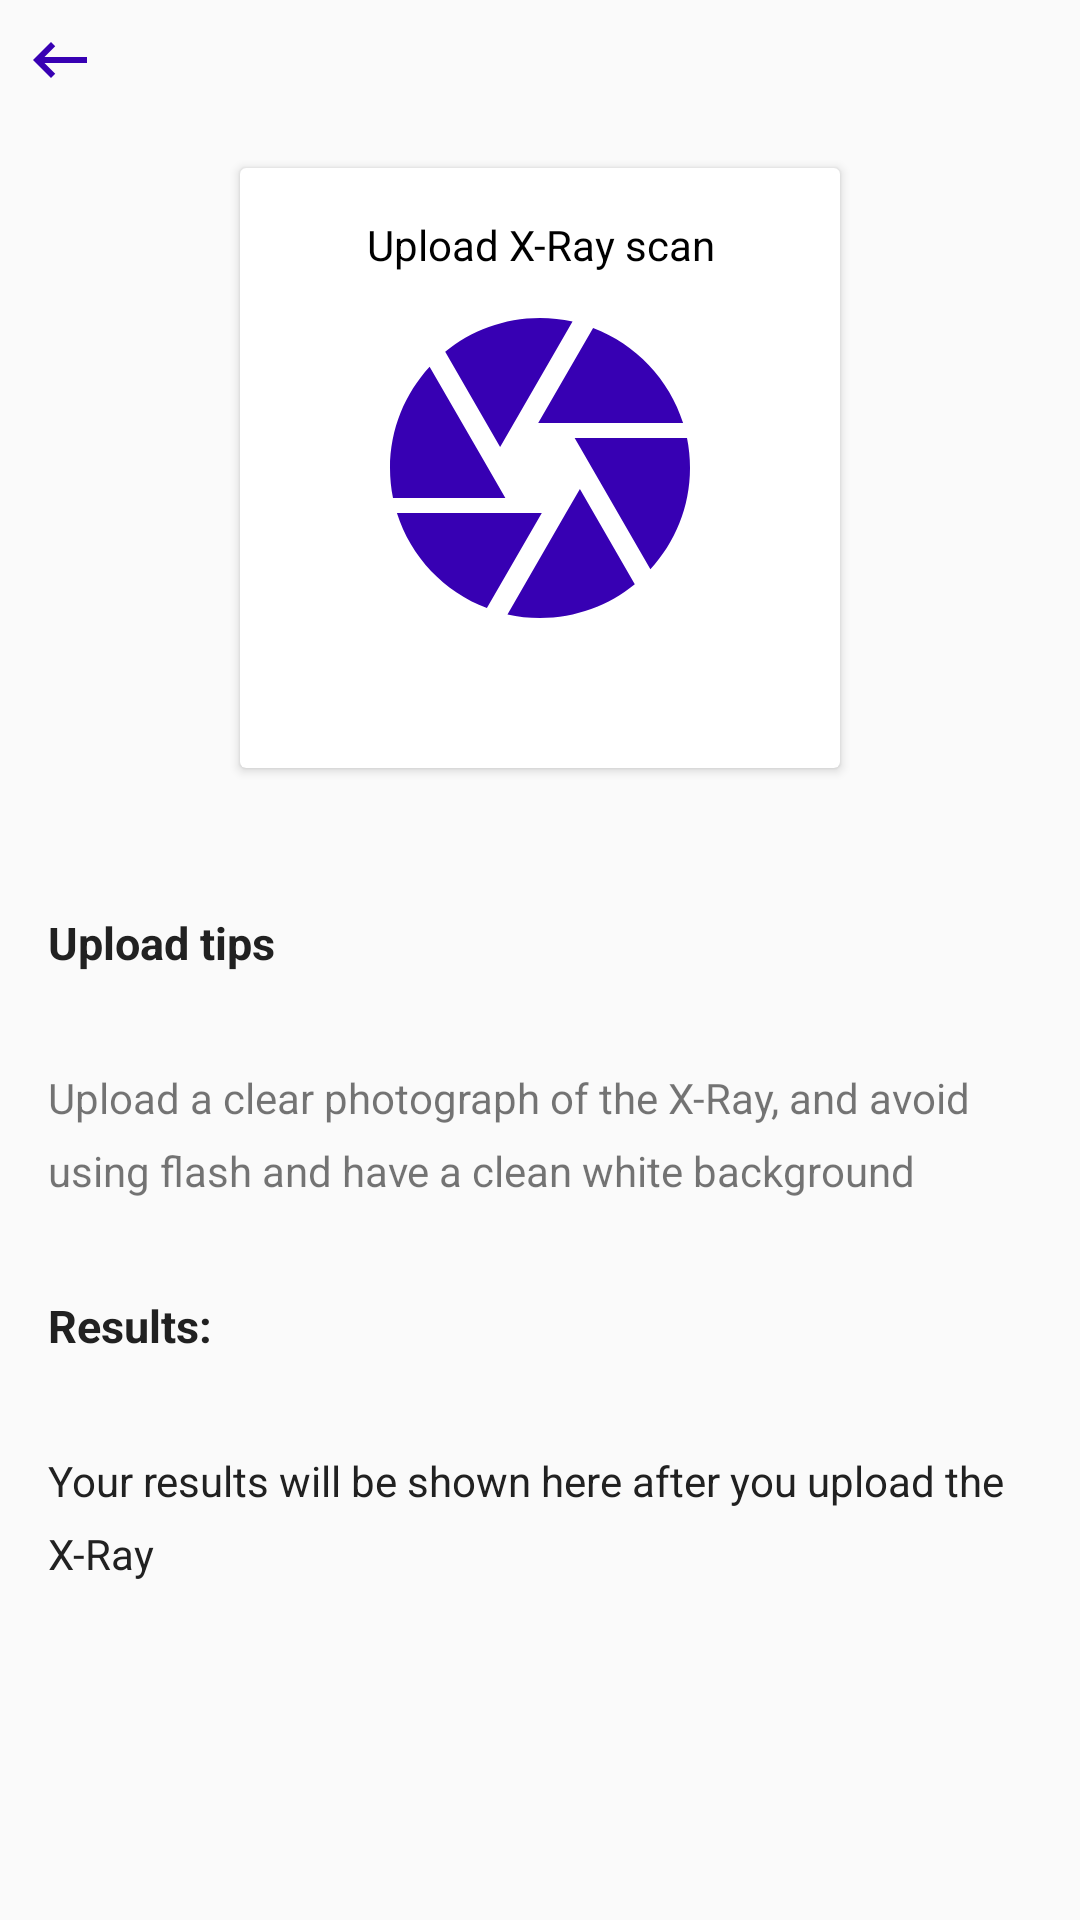

Locate icon controls on the screen. Image size 1080w x 1920h, boxes as (x1=x1, y1=y1, x2=x2, y2=y2).
back: (x1=33, y1=42, x2=87, y2=78)
